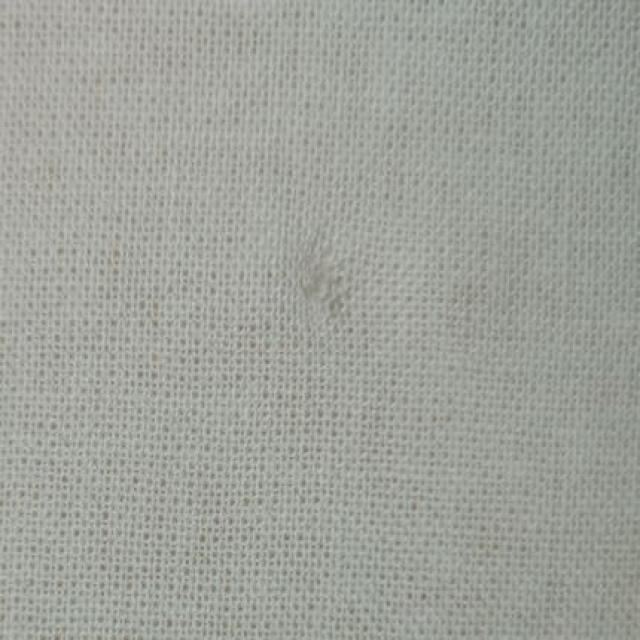seam: (286, 232, 342, 327)
